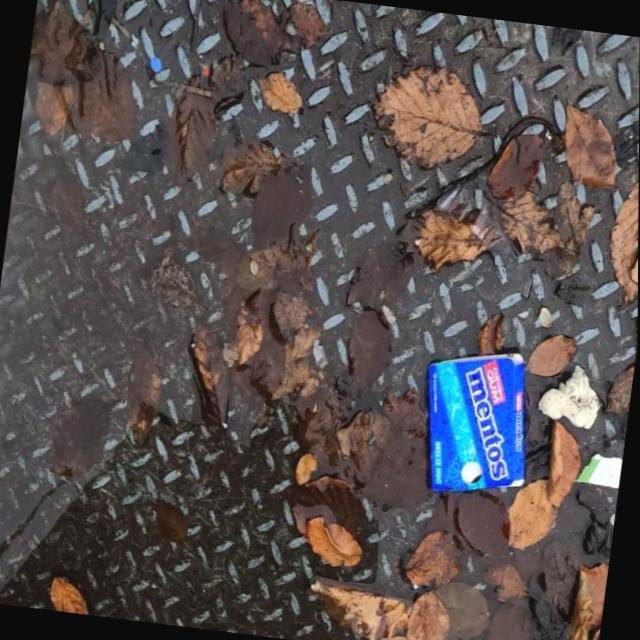Plastic: (410, 340, 543, 507)
